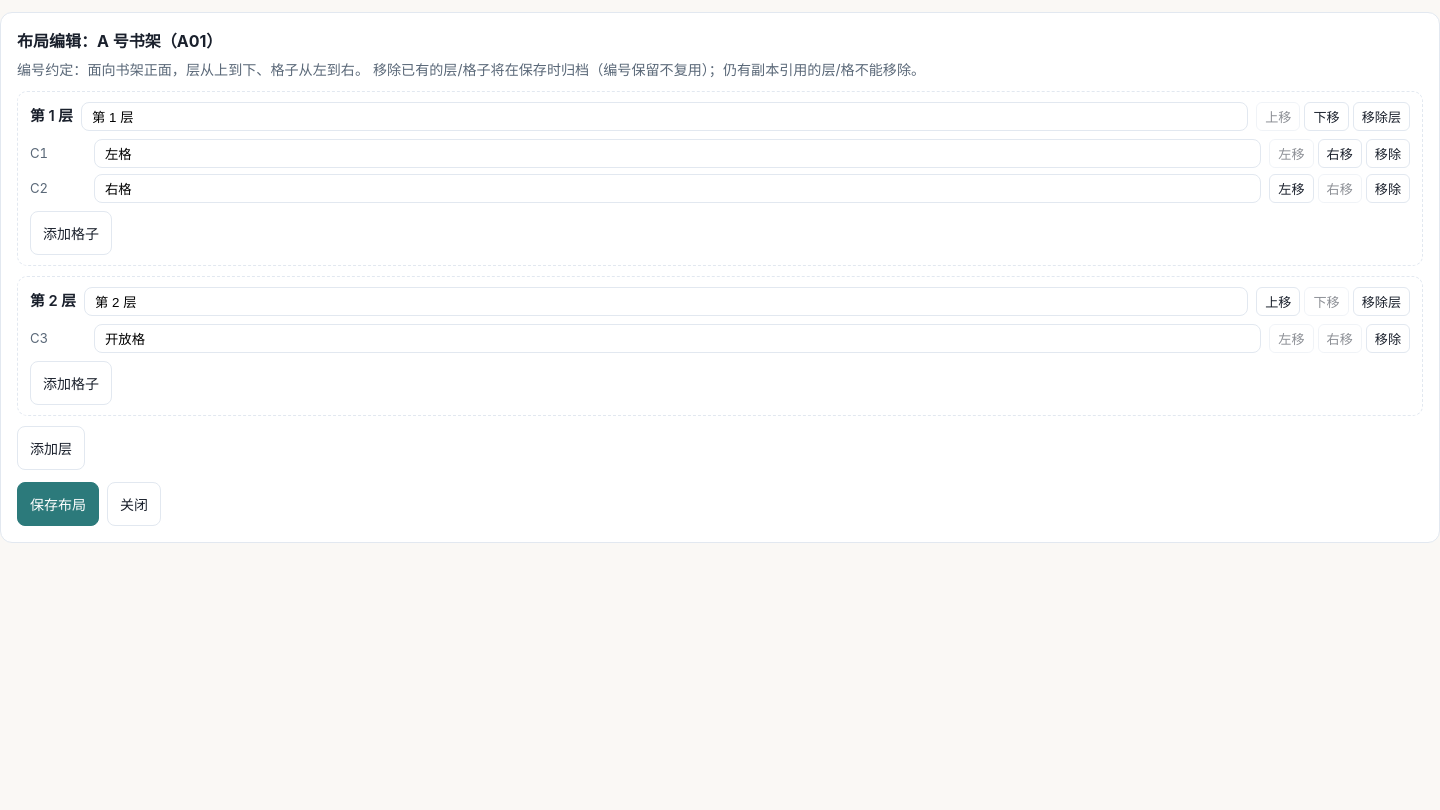
Scenario: ShelfLayoutEditor › PLACEMENT_CHANGED：刷新最新布局并提示重新核对，不自动重放
Replace the text in the field next to "第 1 层" with "改名" at (665, 117), box [81,102,1248,131]
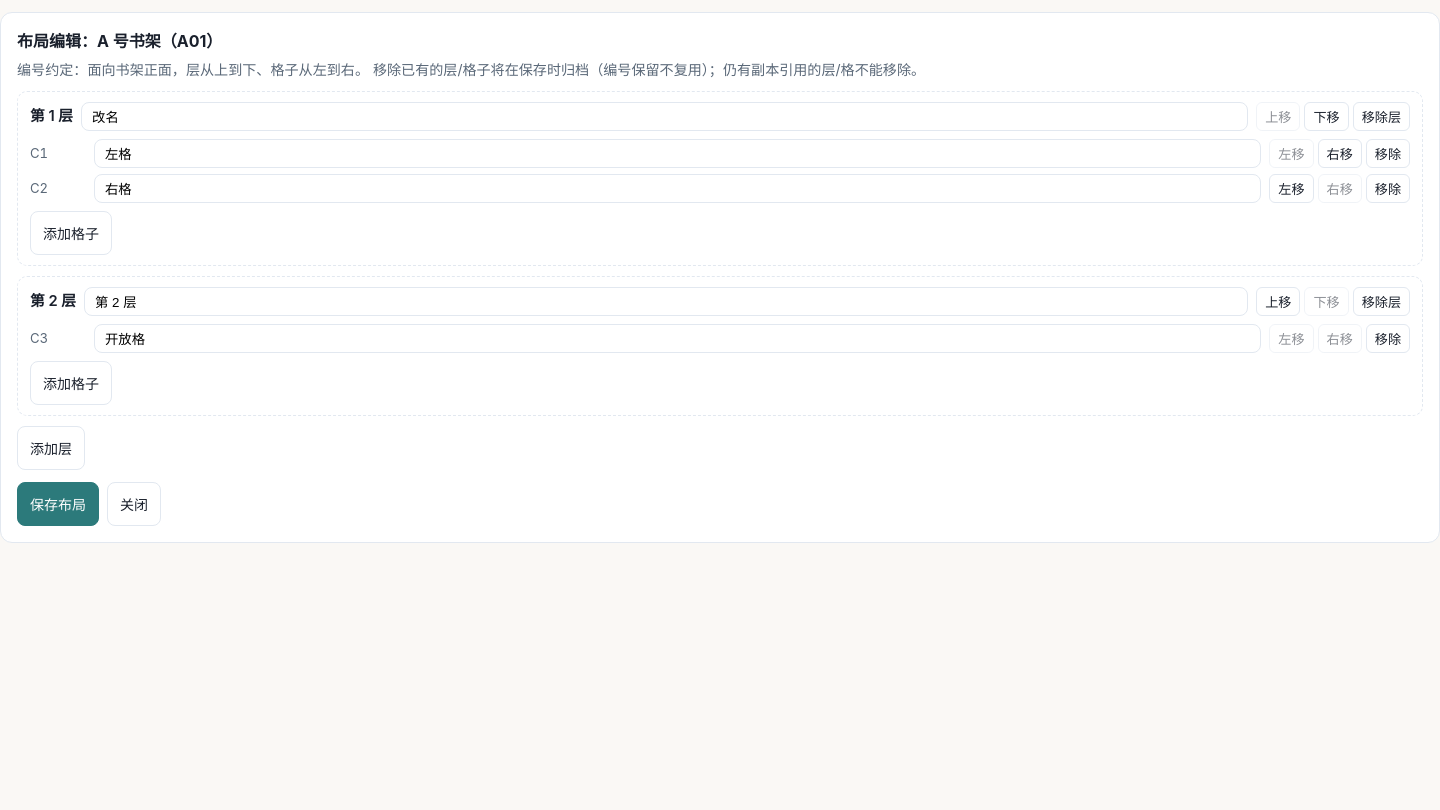
Click the button "保存布局" at (58, 504), box [17,482,99,526]
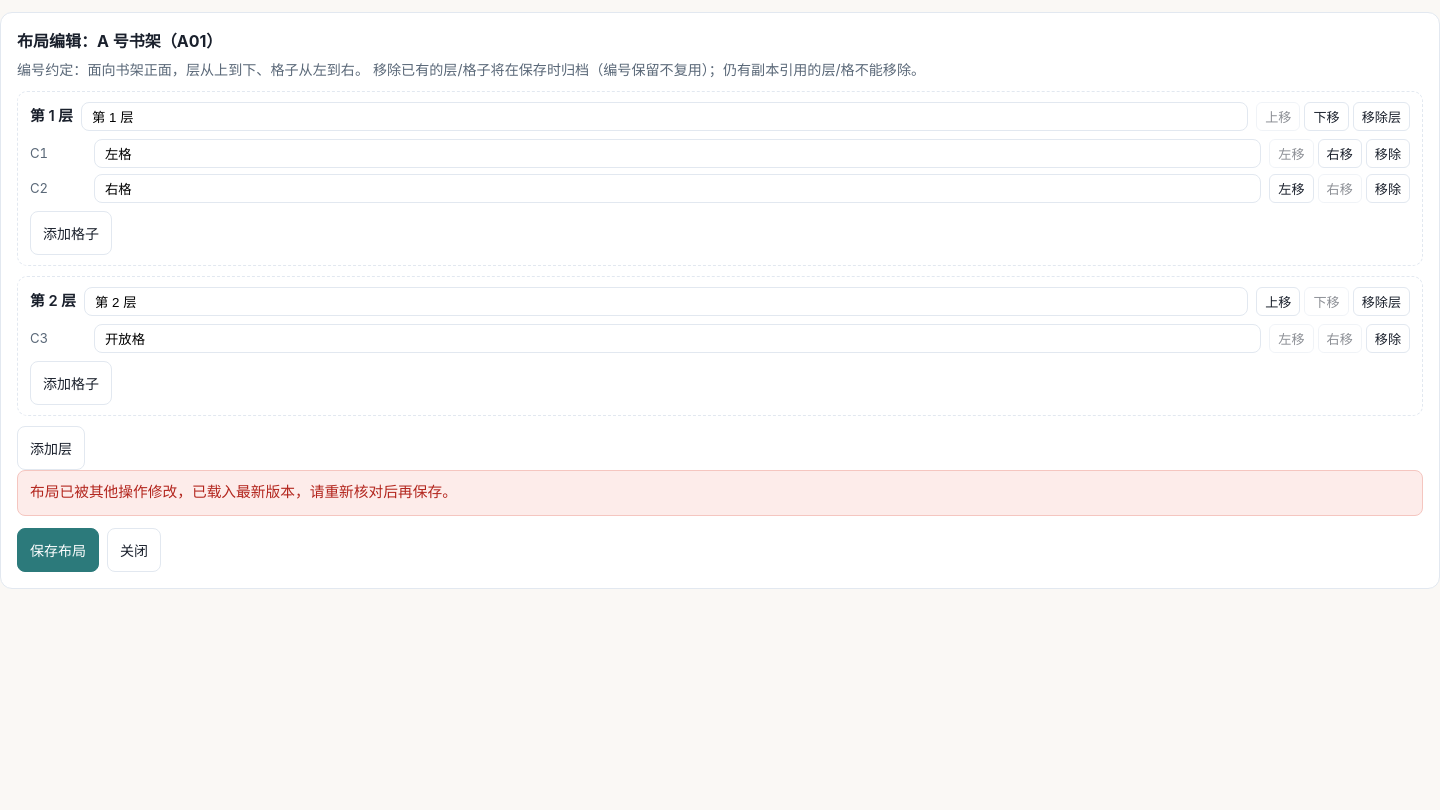
Expected: the message with class "error-box" shows "已载入最新版本，请重新核对", [30,483,457,501]
Expected: the field next to "第 1 层" holds "第 1 层", [81,102,1248,131]
